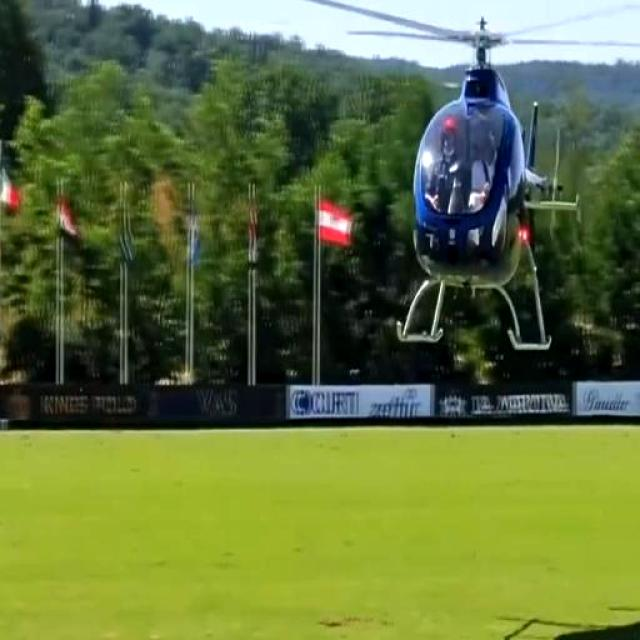drone: (266, 0, 640, 378)
